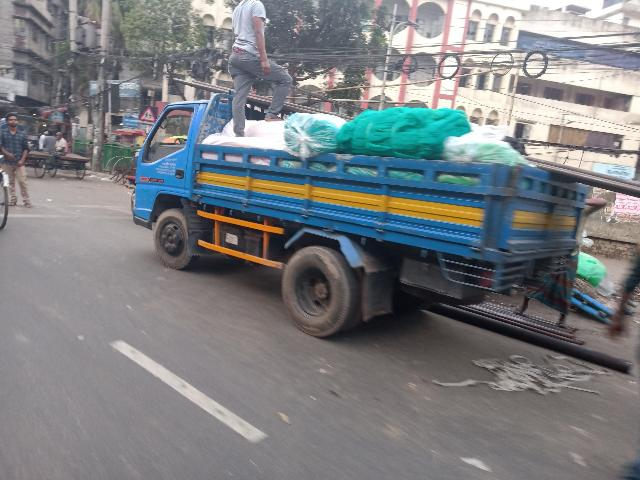truck: (117, 68, 594, 352)
